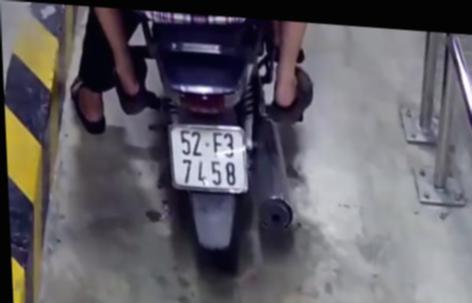License_Plate: (168, 120, 251, 200)
